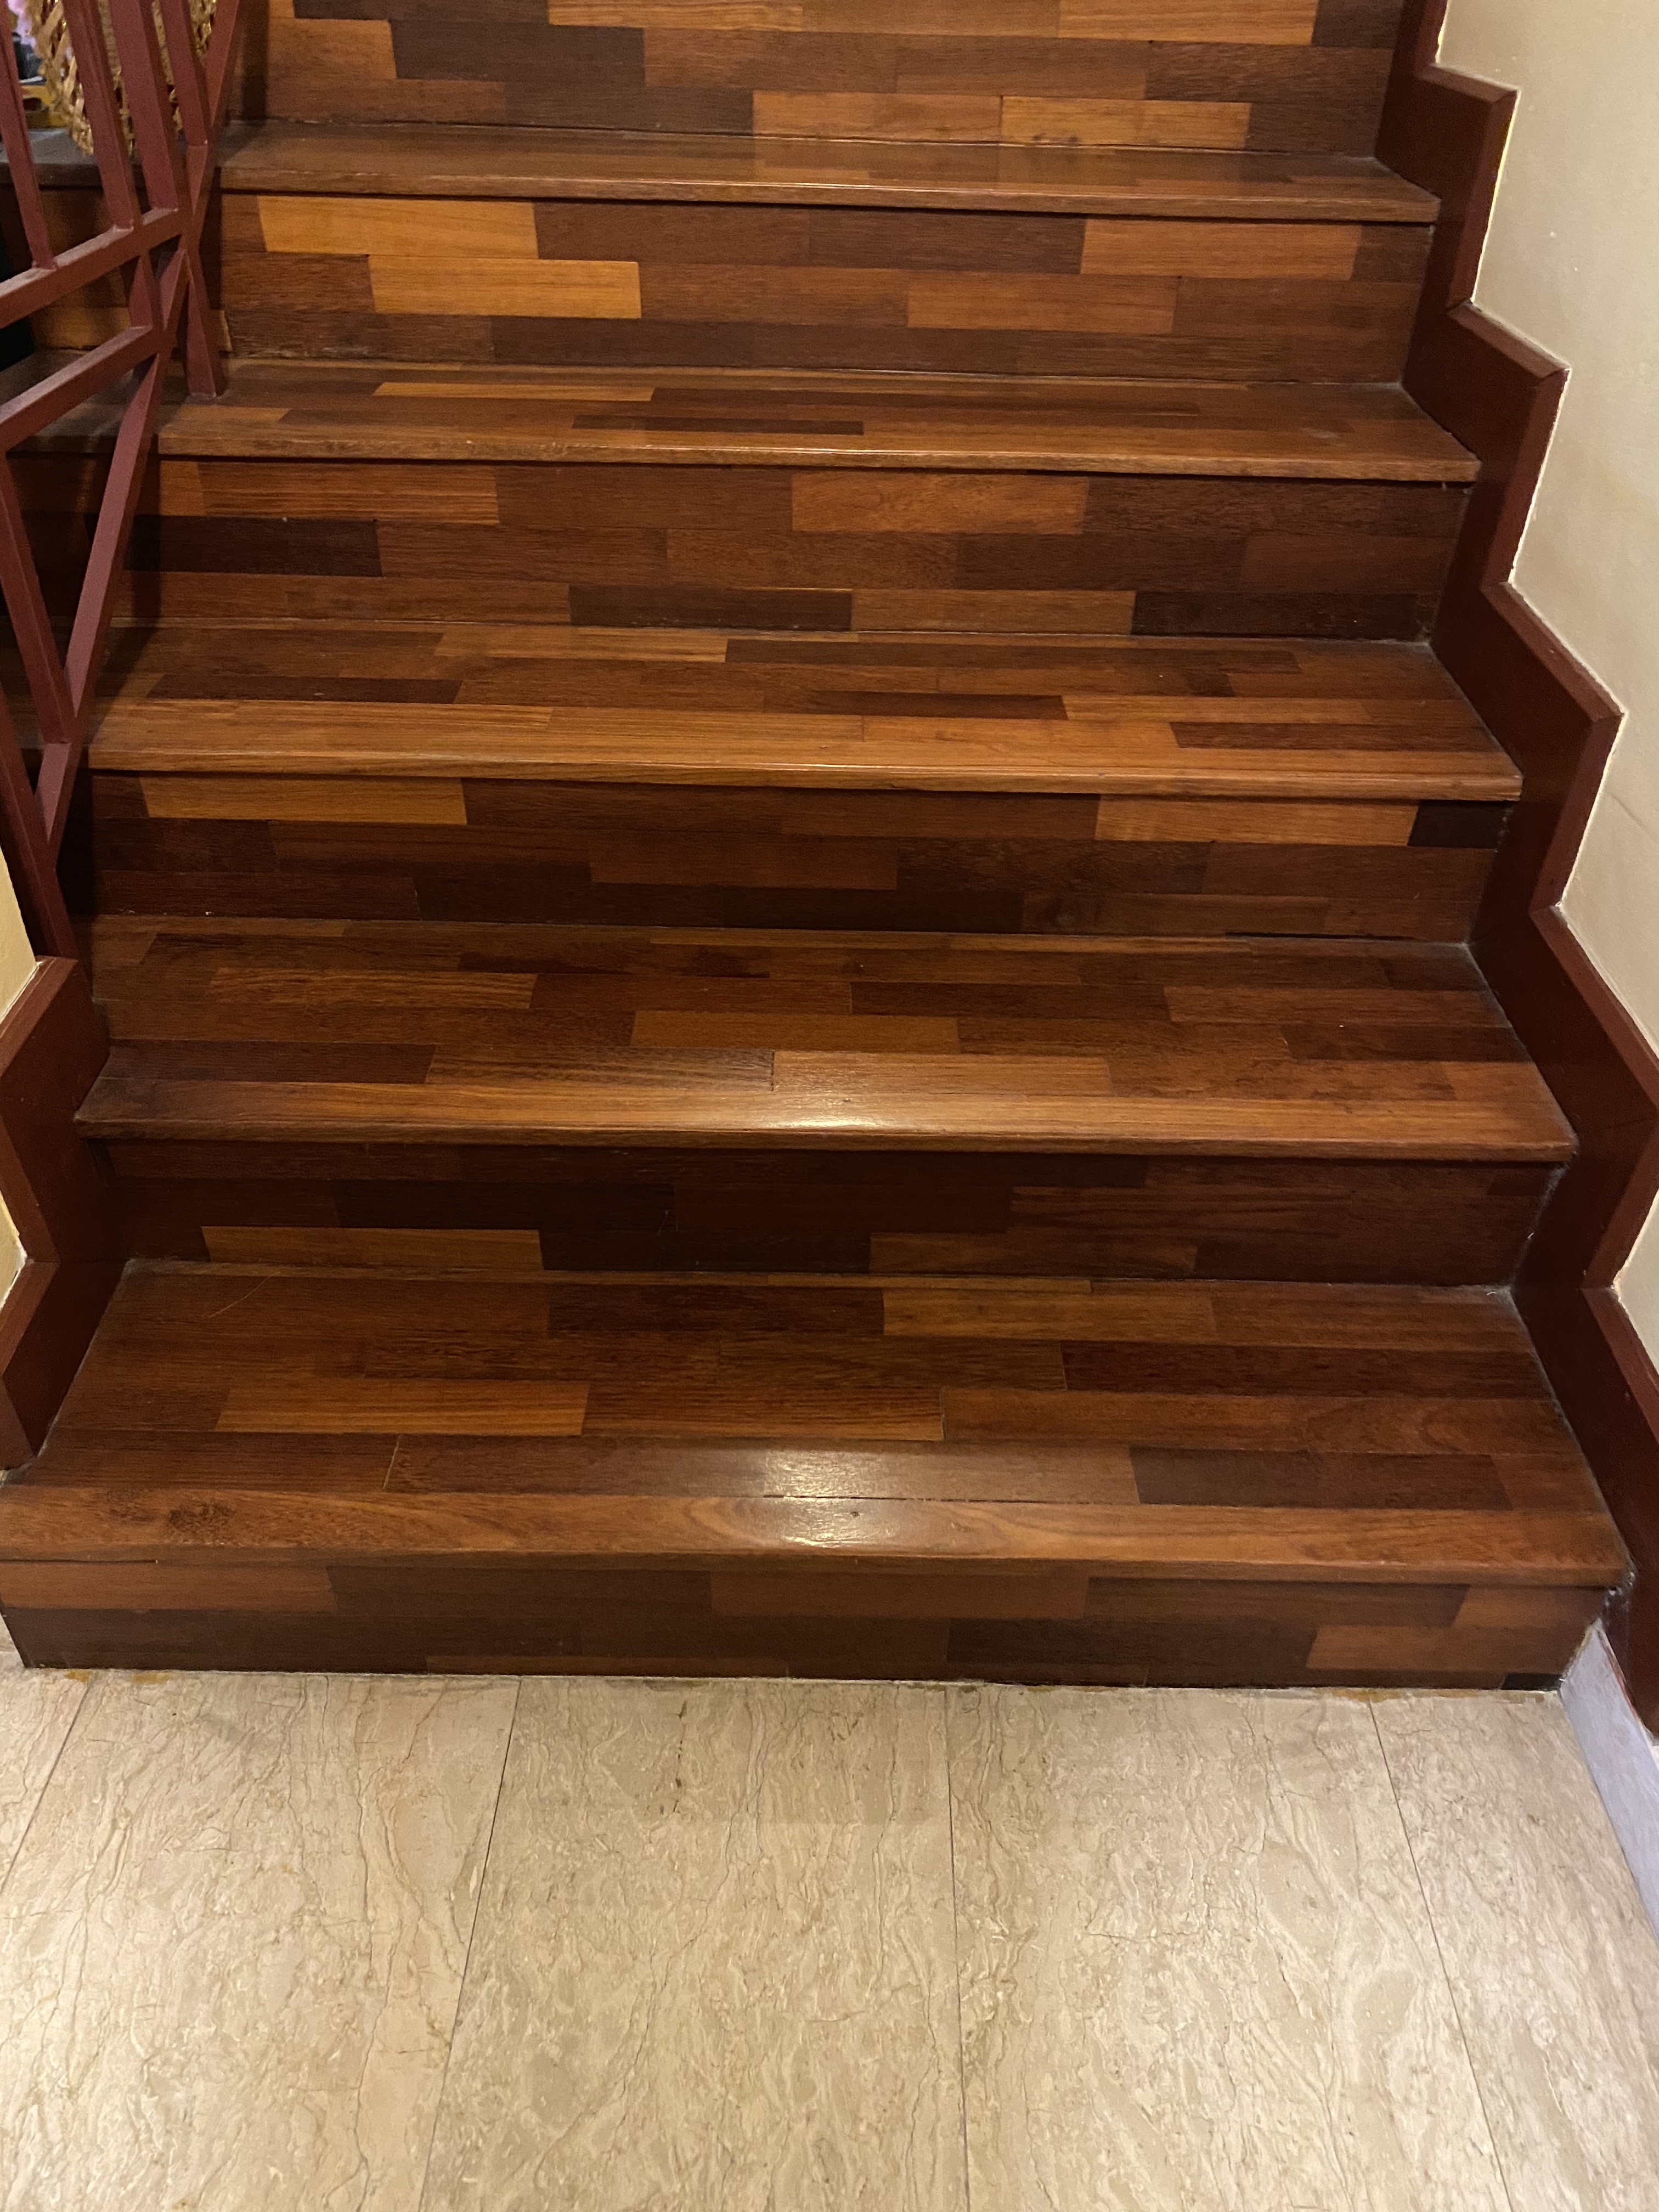upstairs: (179, 624, 1481, 1806)
